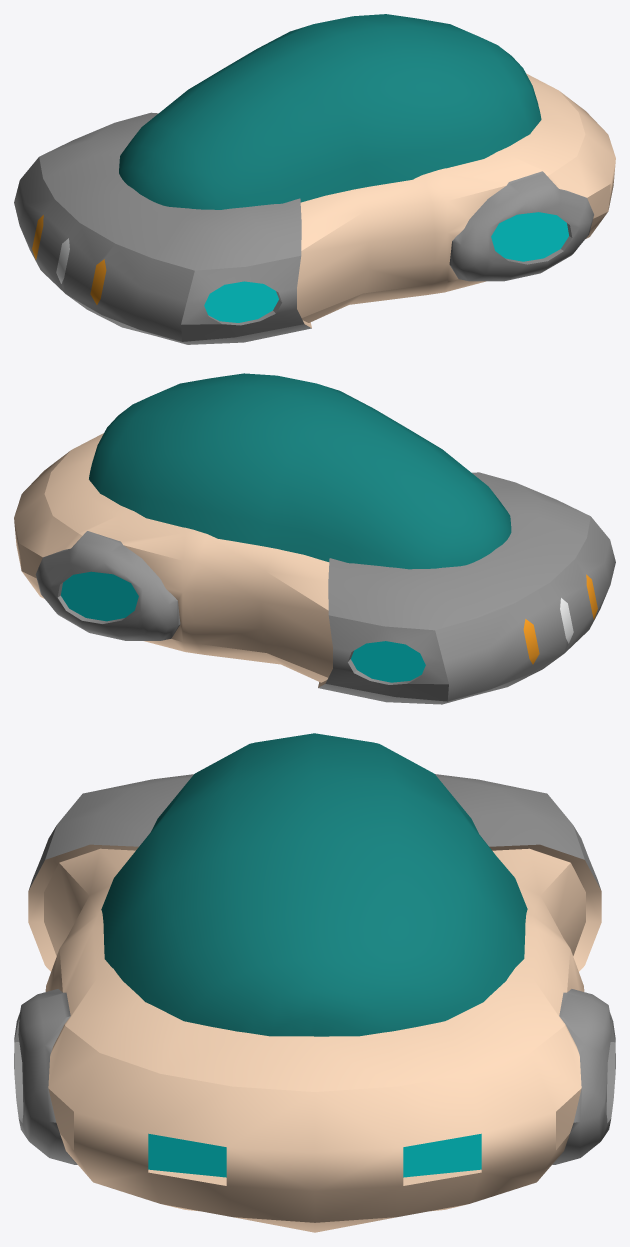
File: SM_auto_2.fbx
3 renders of one model, top to bottom at view 1: azimuth 30°, elevation 25°; view 2: azimuth 150°, elevation 25°; view 3: azimuth 270°, elevation 25°, orthographic. The views are drawn at different scales.
Parts seen in each view (by area): view 1: SM_auto_2; view 2: SM_auto_2; view 3: SM_auto_2.
Part boxes in pixels (left/top/right/bottom): SM_auto_2: left=14, top=14, right=615, bottom=344; SM_auto_2: left=14, top=373, right=615, bottom=704; SM_auto_2: left=14, top=733, right=615, bottom=1232.
Size of the model in its own units: 503 by 201 by 335.
